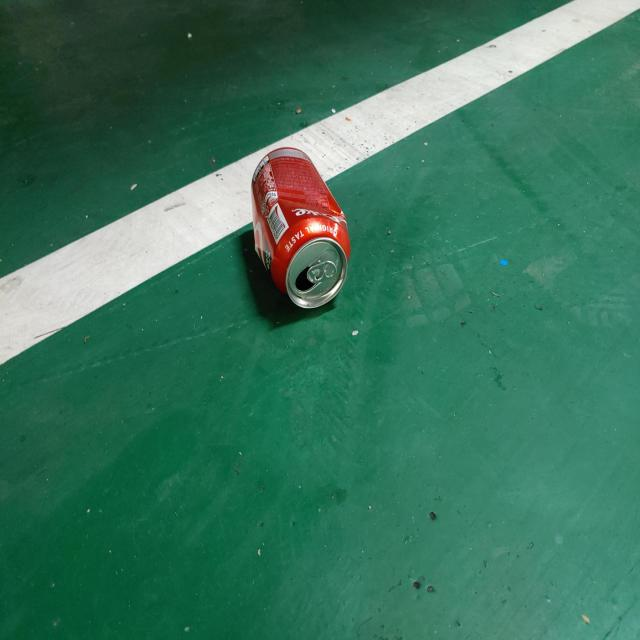can: (251, 147, 351, 308)
